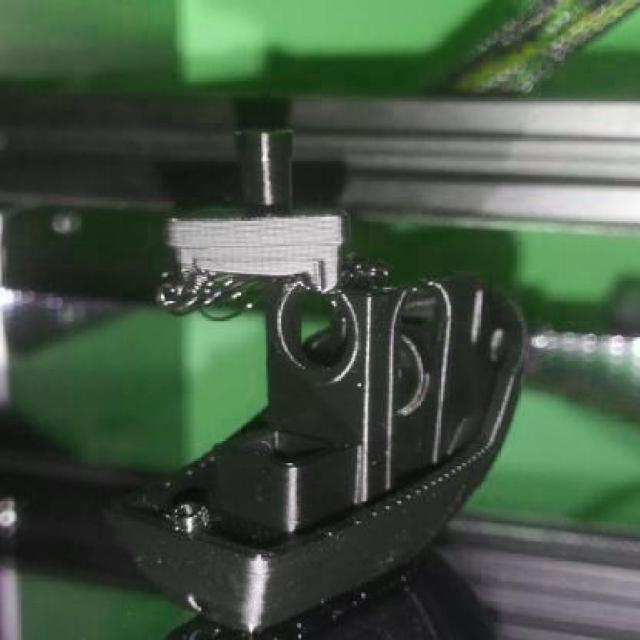spaghetti: (154, 264, 274, 321), (338, 248, 392, 294)
